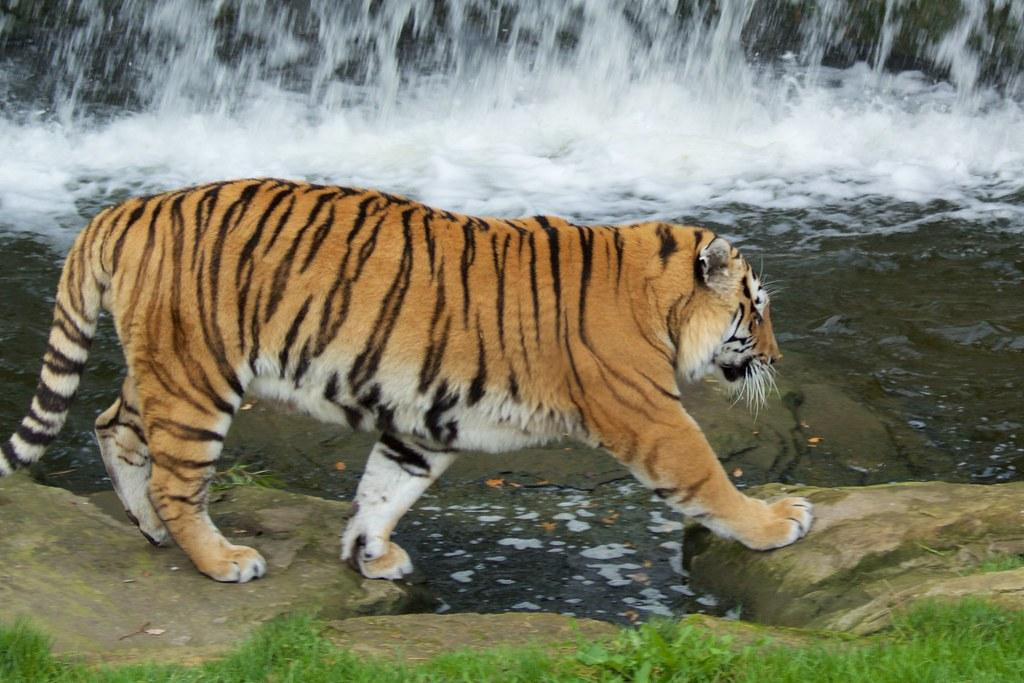tiger: (1, 175, 815, 586)
